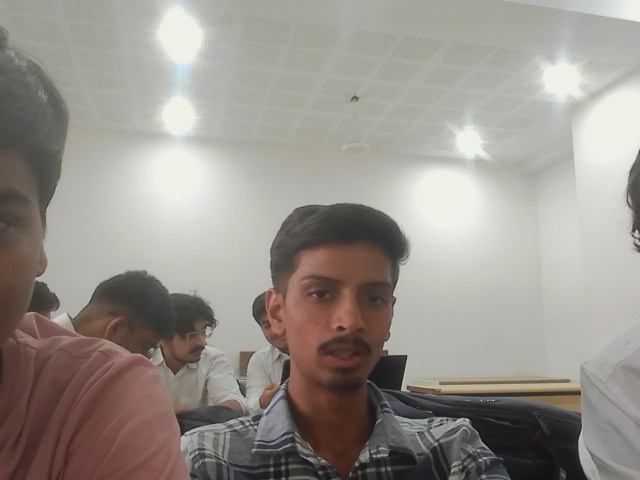fan_on: (340, 94, 370, 153)
light_on: (143, 17, 215, 162), (446, 119, 490, 155), (537, 59, 562, 94)
person: (181, 200, 504, 479), (0, 39, 196, 478), (73, 269, 269, 445), (575, 132, 639, 479)
